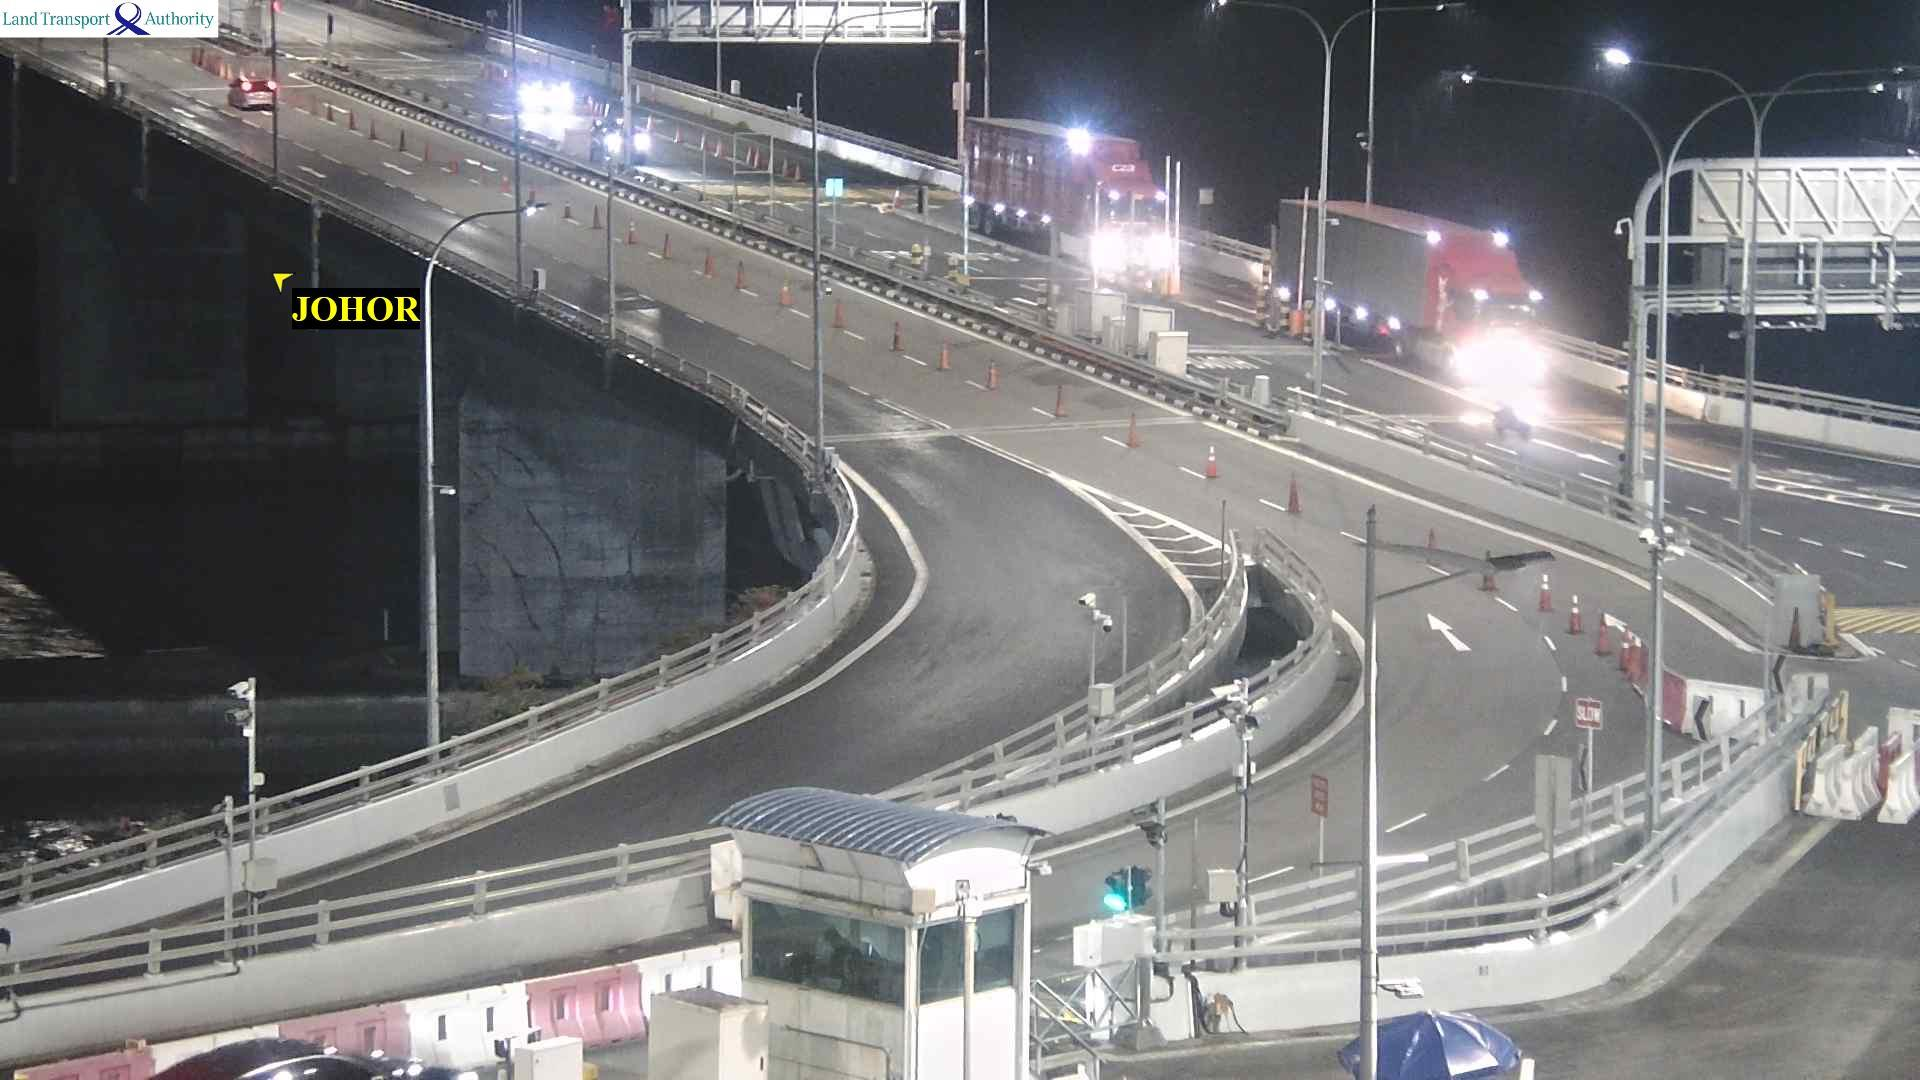vehicle-secondlink-singapore: (1287, 204, 1526, 385), (960, 116, 1172, 286), (488, 63, 553, 116), (1102, 864, 1145, 918), (608, 116, 657, 160), (1360, 306, 1403, 352), (1487, 402, 1530, 444), (1199, 678, 1237, 720), (1357, 501, 1389, 547), (1311, 770, 1342, 814)
